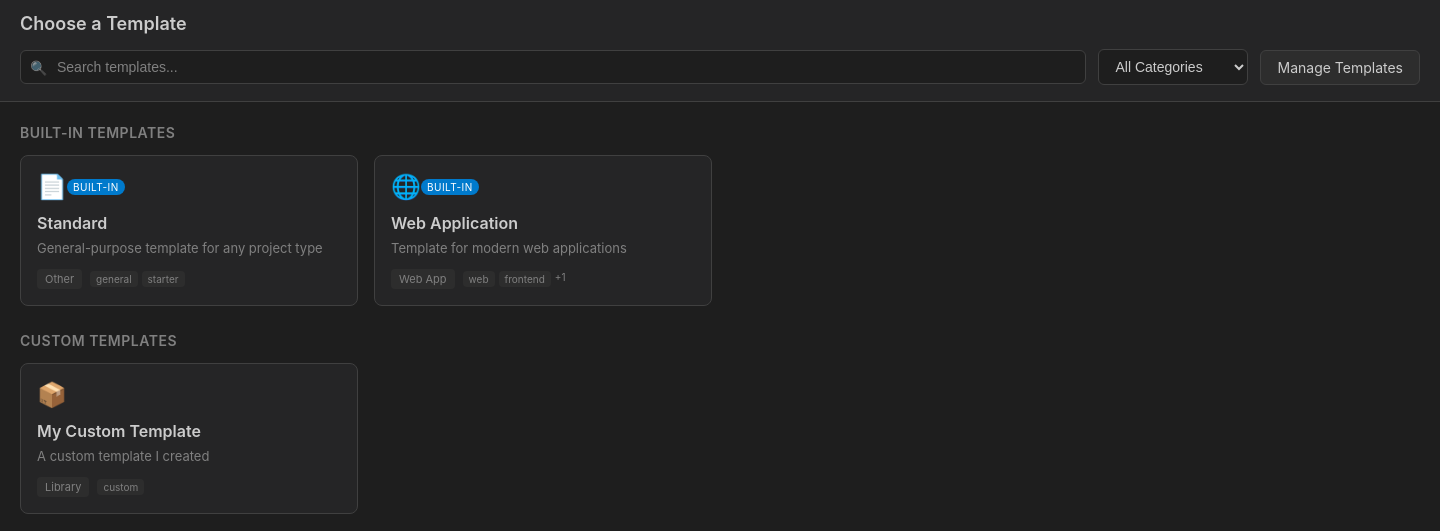
Scenario: TemplateSelector › clears filters when Clear Filters button is clicked
This screenshot has width=1440, height=531.
Type "nonexistent" into the field with placeholder "Search templates..." at (553, 67), box [20, 50, 1086, 84]
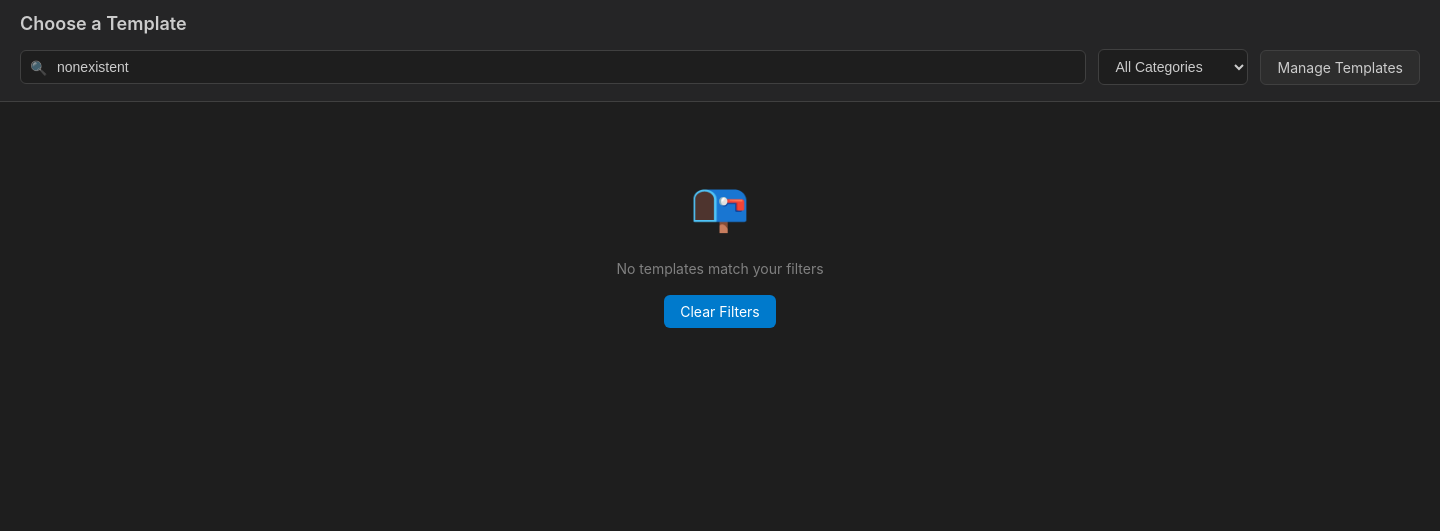
Click the button "Clear Filters" at (720, 312), box [664, 295, 776, 328]
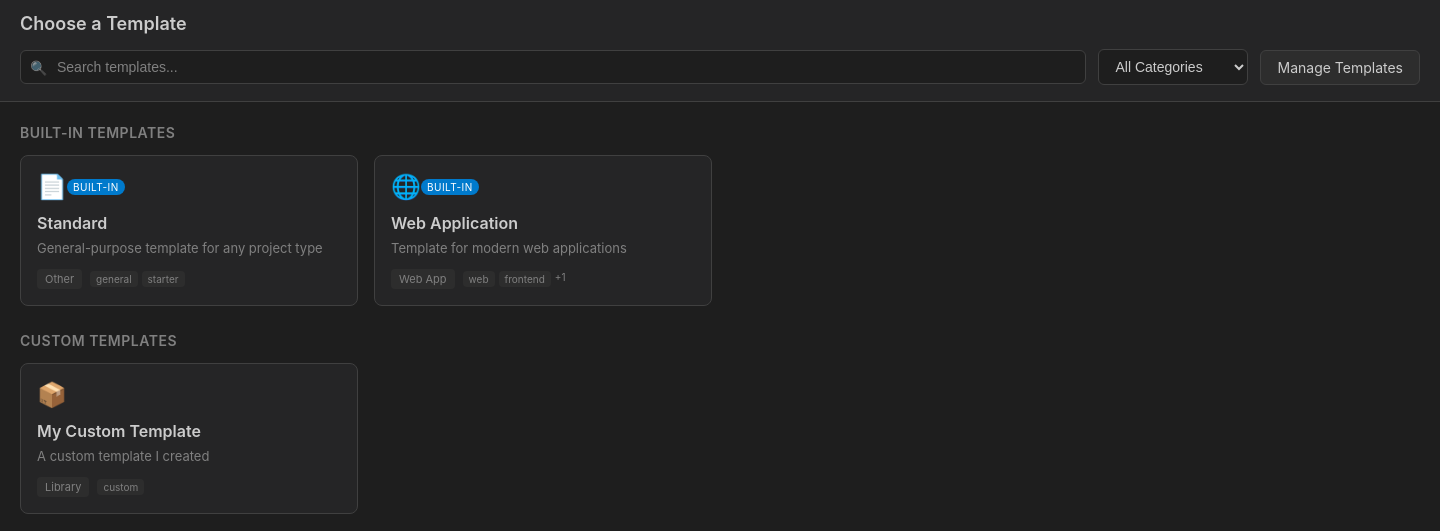
Check: the heading "Standard" is shown, box [37, 213, 107, 233]
Check: the heading "Web Application" is shown, box [391, 213, 518, 233]
